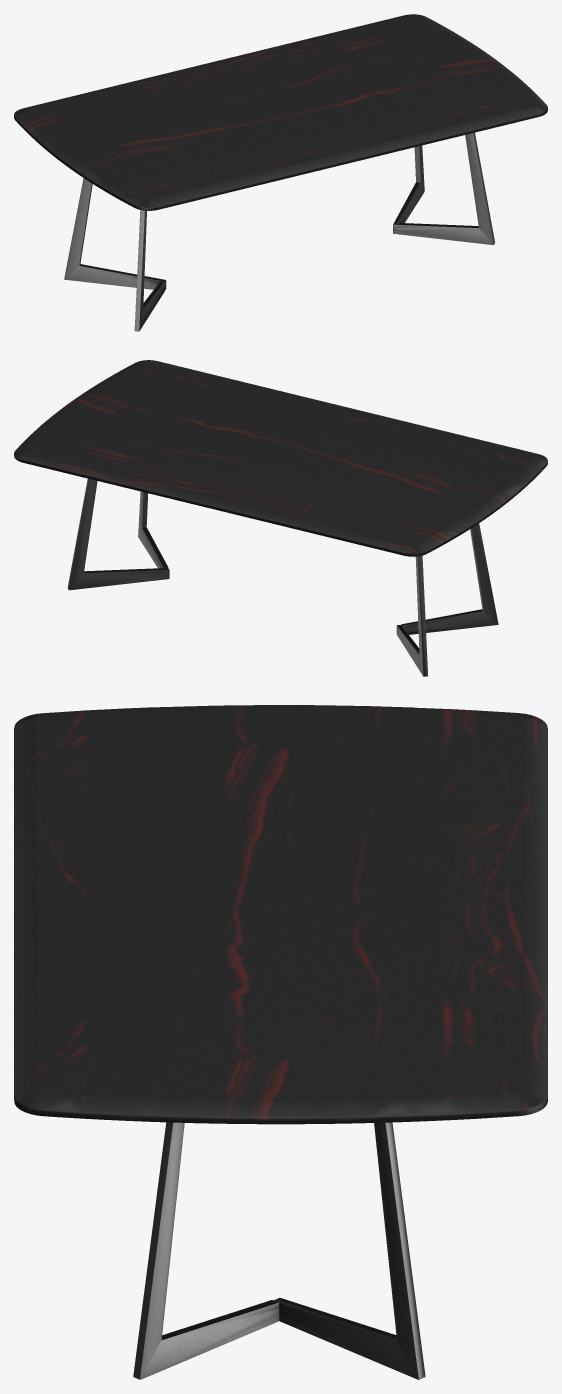
Rendered from raw_model.obj.
The picture shows the model from 3 angles, top to bottom: view 1: azimuth 30°, elevation 25°; view 2: azimuth 150°, elevation 25°; view 3: azimuth 270°, elevation 25°; orthographic projection. The views are drawn at different scales.
Parts seen in each view (by area): view 1: solid_002, solid_001; view 2: solid_002, solid_001; view 3: solid_002, solid_001.
Part boxes in pixels (x1=…): solid_002: x1=14, y1=14, x2=547, y2=210; solid_001: x1=64, y1=132, x2=494, y2=331; solid_002: x1=14, y1=360, x2=547, y2=556; solid_001: x1=67, y1=478, x2=498, y2=676; solid_002: x1=14, y1=705, x2=547, y2=1124; solid_001: x1=133, y1=1122, x2=425, y2=1379.
Bounding box in the file's own units: 2.2 × 0.7526 × 1.2.
Materials: 1 (1 with a texture image).
